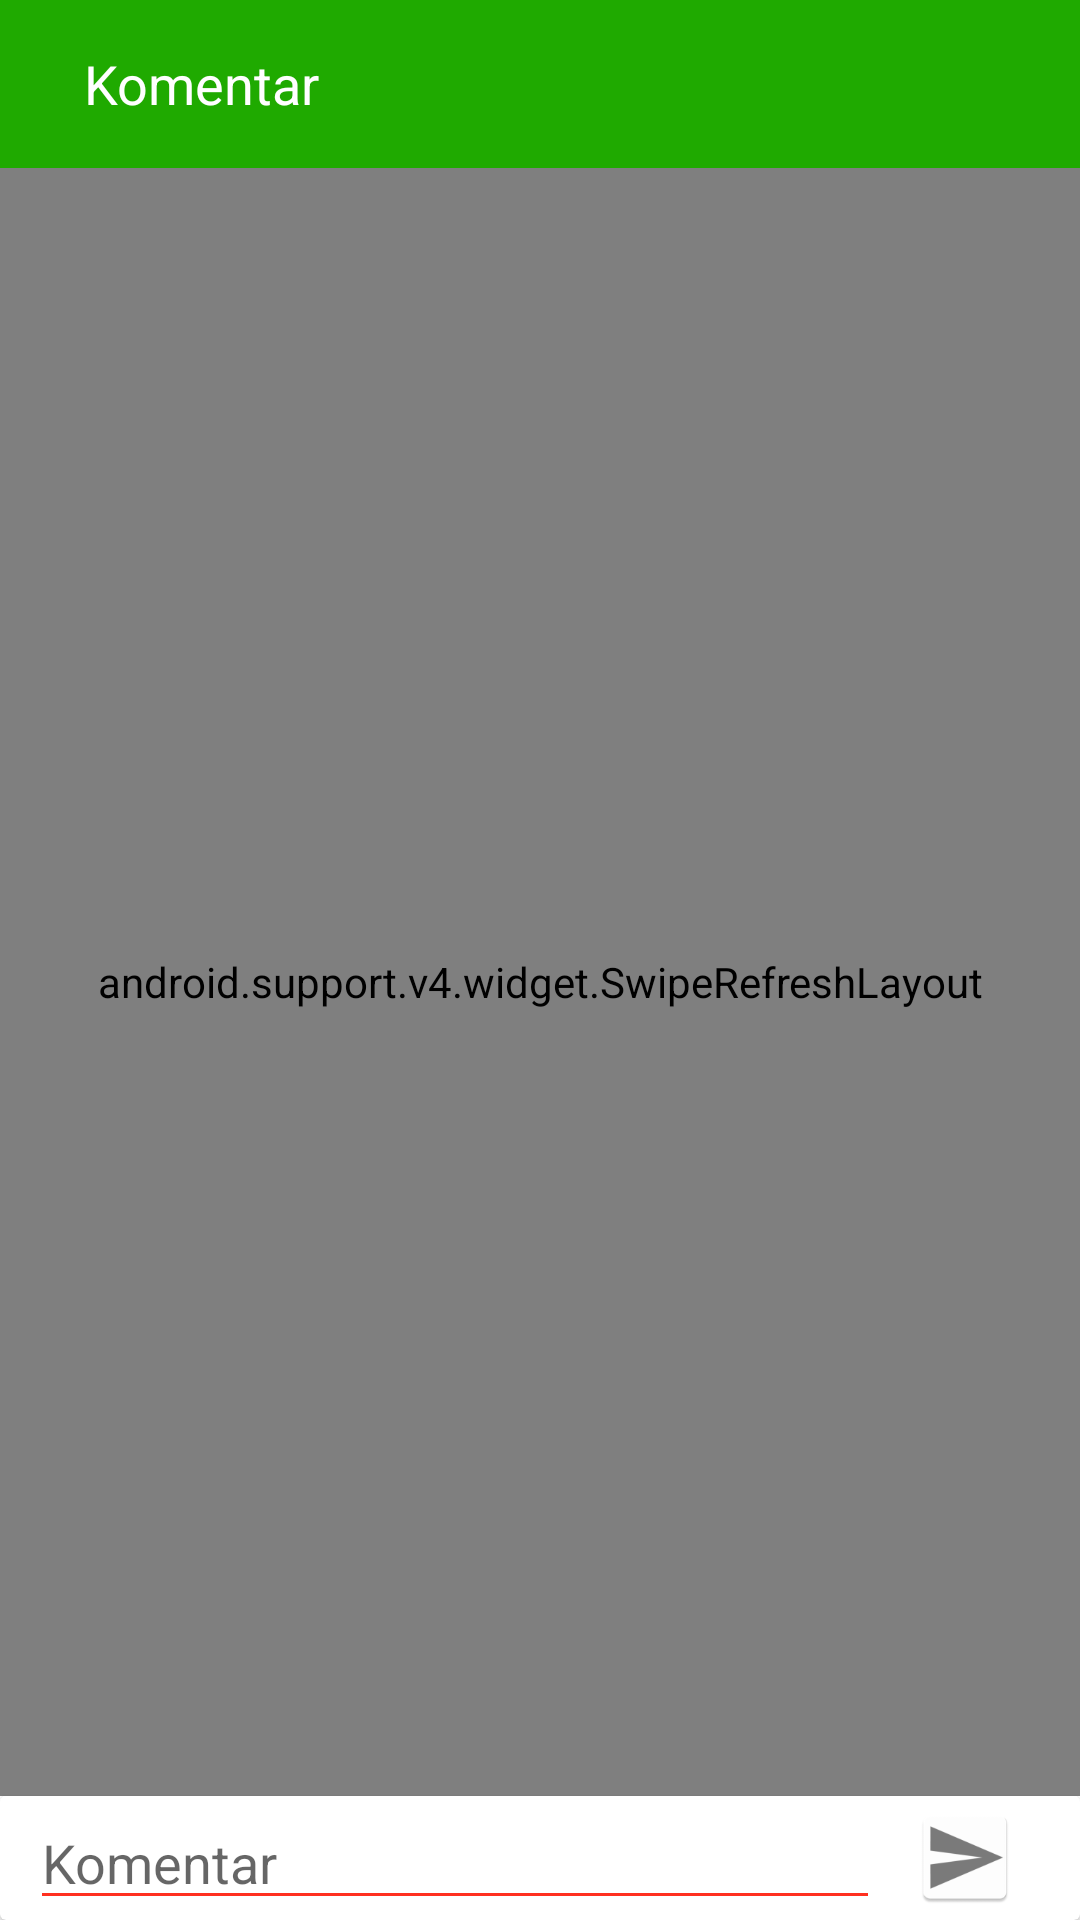

Where icons sit on this 1080w x 1920h app screen, as {"x1": x1, "y1": y1, "x2": x2, "y2": y2}:
send: {"x1": 923, "y1": 1822, "x2": 1007, "y2": 1902}
